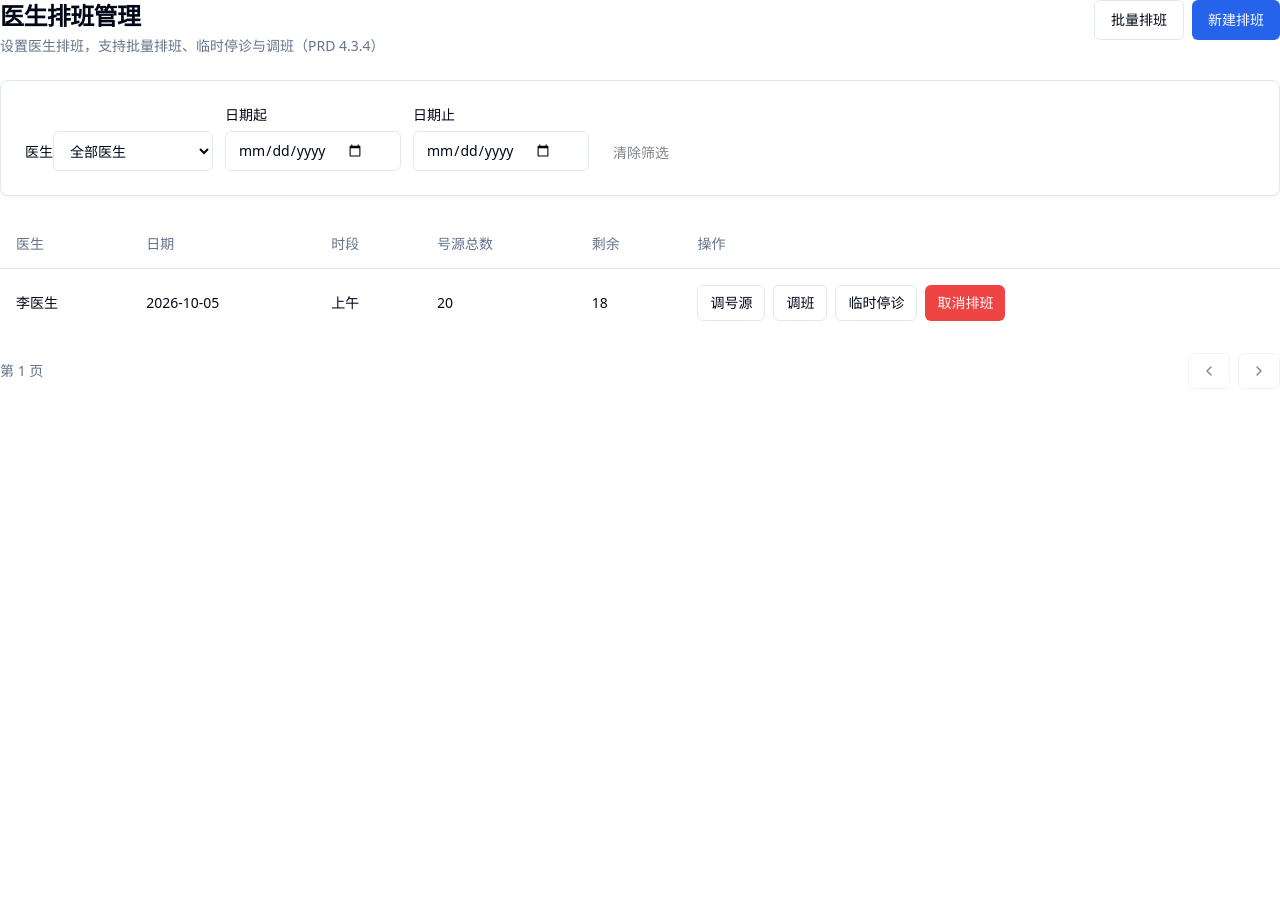
Test case: ScheduleManagePage › 停诊必须填原因，回包的三个数字要说清动了几个人的账
Expected: the table is shown, [0,220,1279,336]
Click the button "临时停诊" at (876, 302), box [835,284,917,320]
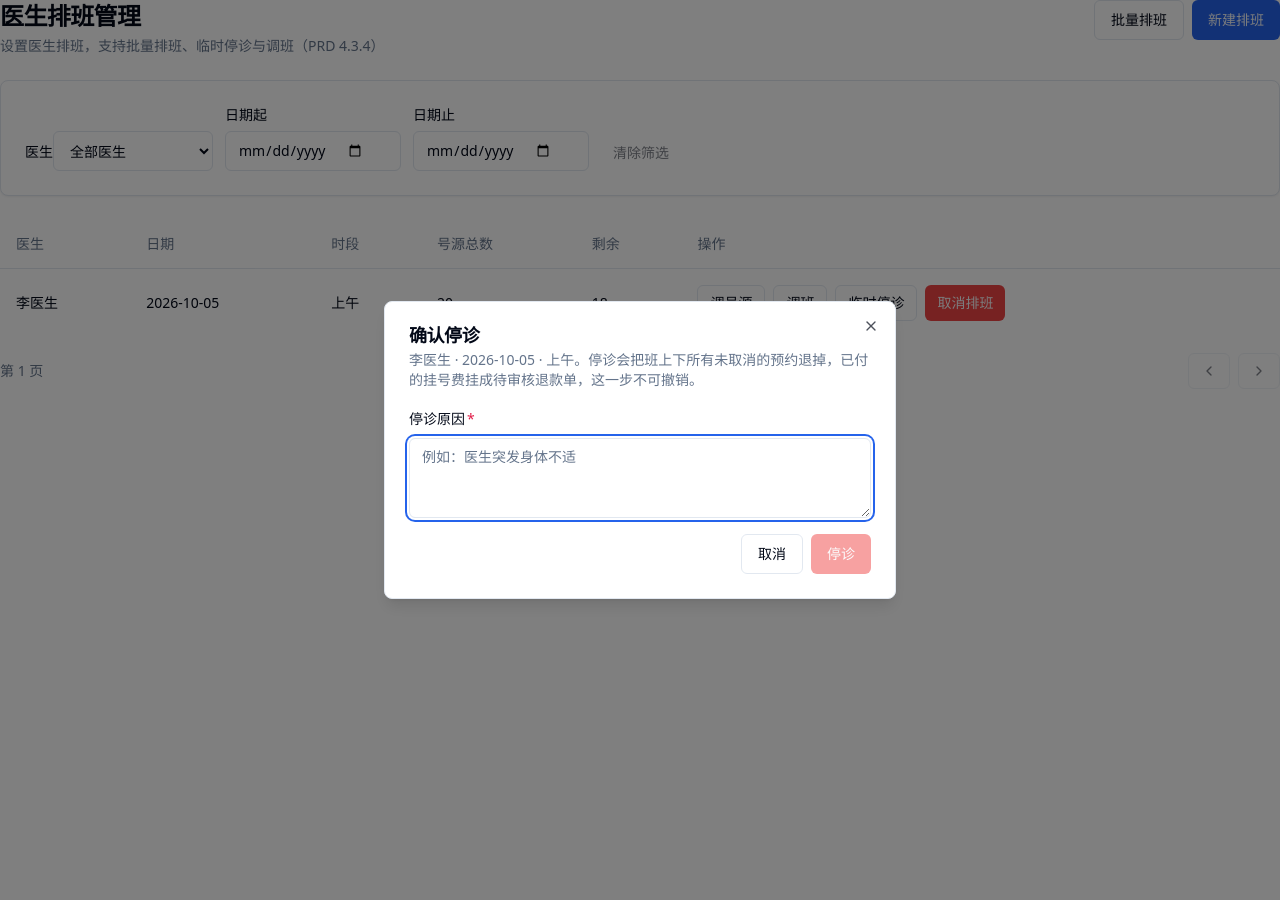
Expected: the button "停诊" is disabled, [811,534,871,574]
Type "医生临时会诊" into the text box labelled "停诊原因*" at (640, 478), box [409,438,871,518]
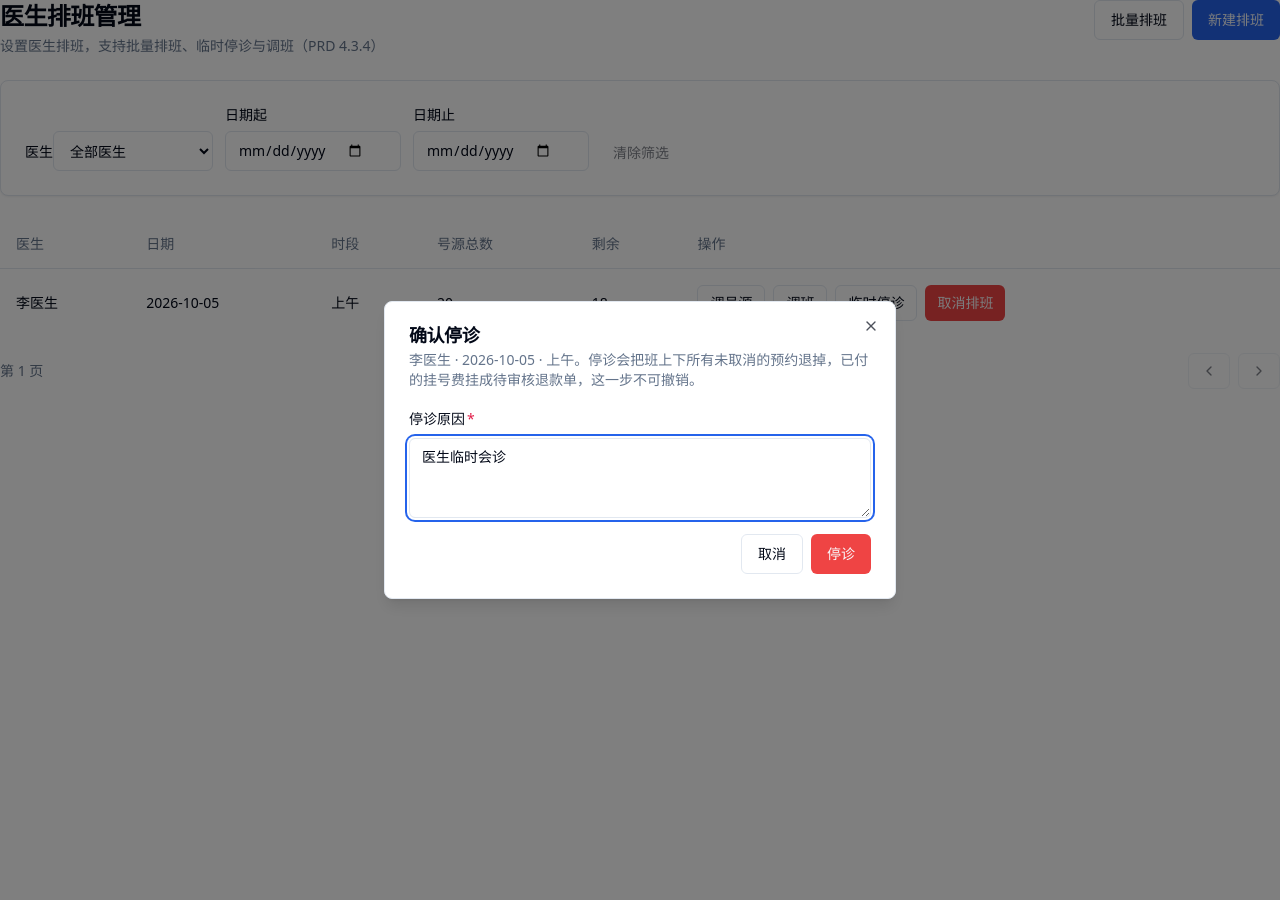
Click the button "停诊" at (841, 554), box [811,534,871,574]
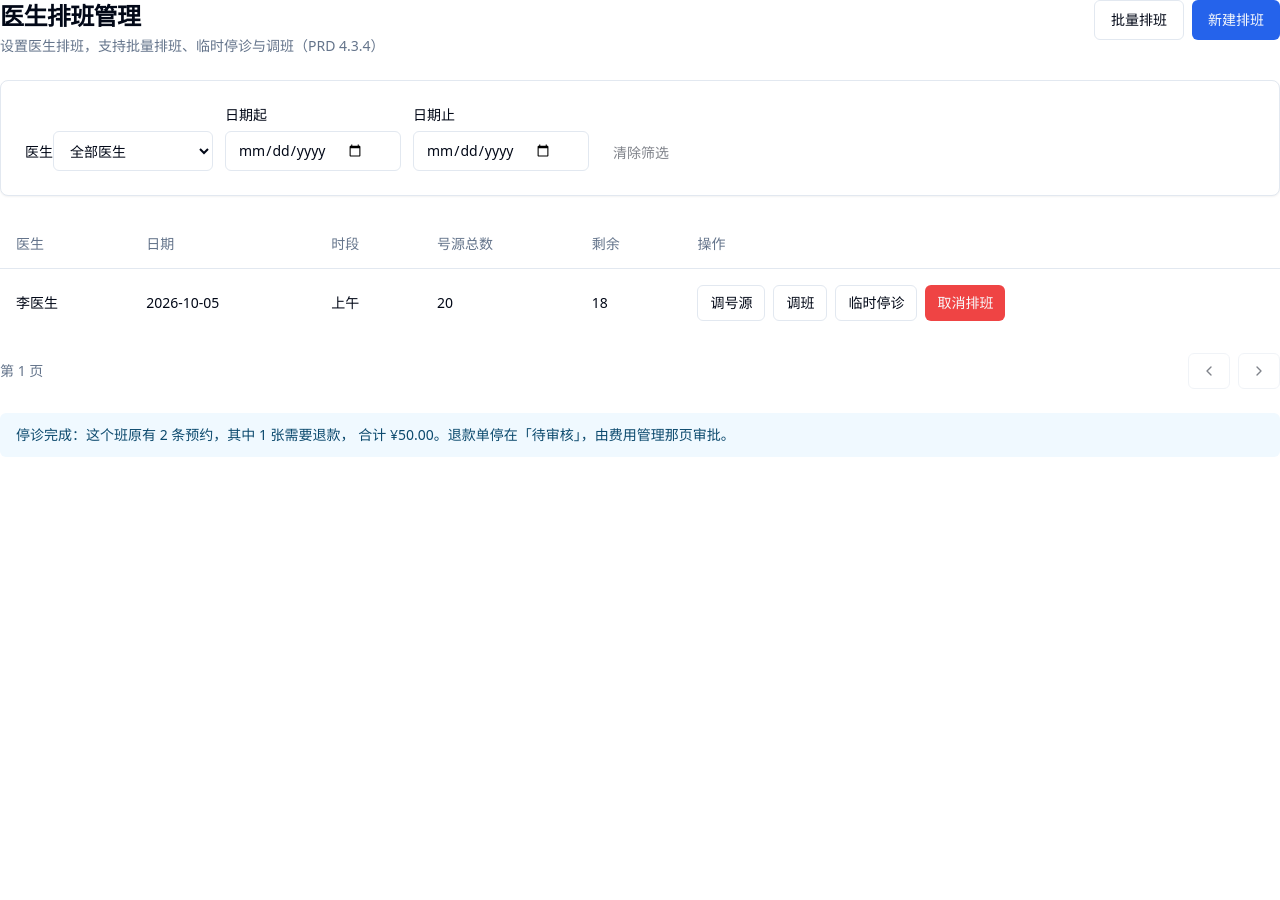
Expected: the text "停诊完成：这个班原有 2 条预约，其中 1 张需要退款， 合计 ¥50.00。退款单停在「待审核」，由费用管理那页审批。" is shown, [0,412,1279,456]
Expected: the text "¥50.00" is shown, [390,424,434,444]
